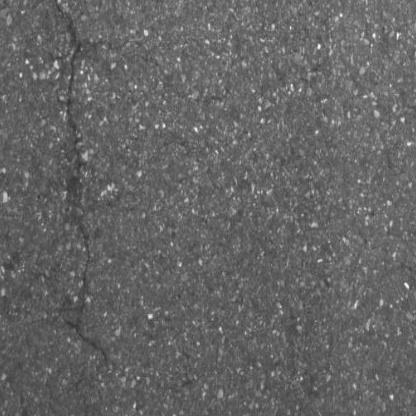Cracks: (60, 200, 113, 371), (51, 0, 87, 178)
